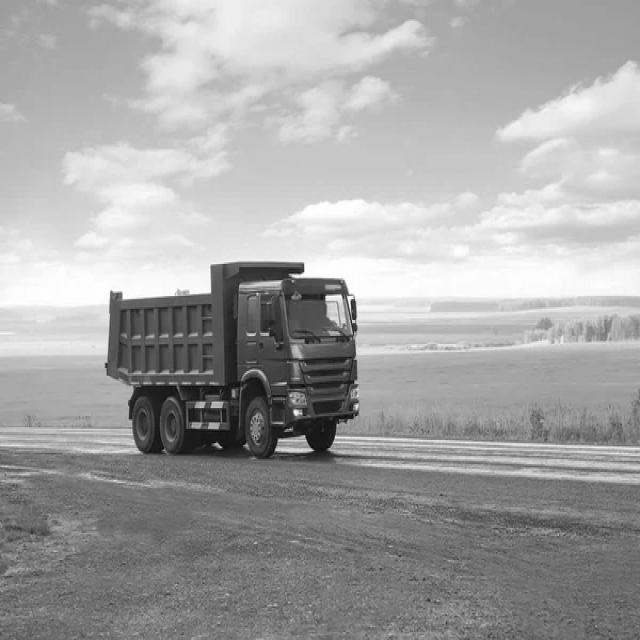Truck: (106, 262, 360, 458)
